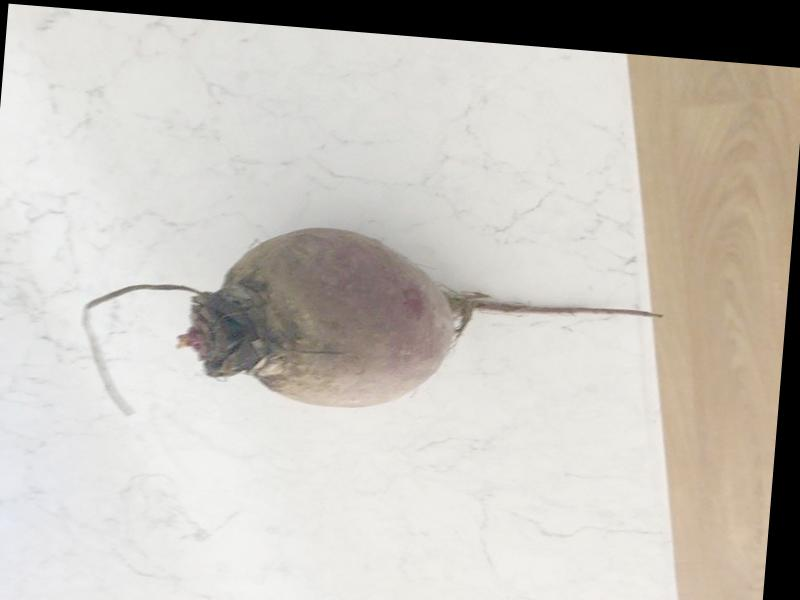Beet: (77, 209, 669, 457)
